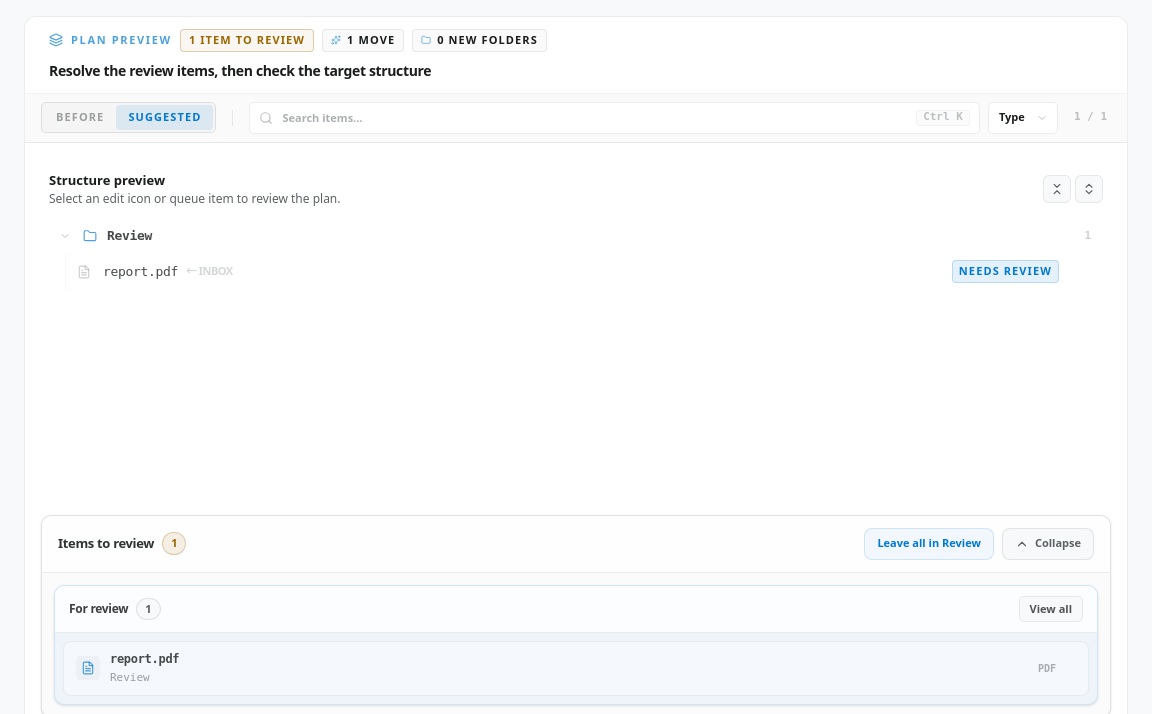
it: PreviewPanel › renders plan preview and review queue labels in English
Expected: the text "Plan preview" is shown, [49,32,172,48]
Expected: the heading "Items to review" is shown, [58,534,154,553]
Click the button "Collapse". click: coordinates (1048, 544)
box: [1002,528,1094,560]
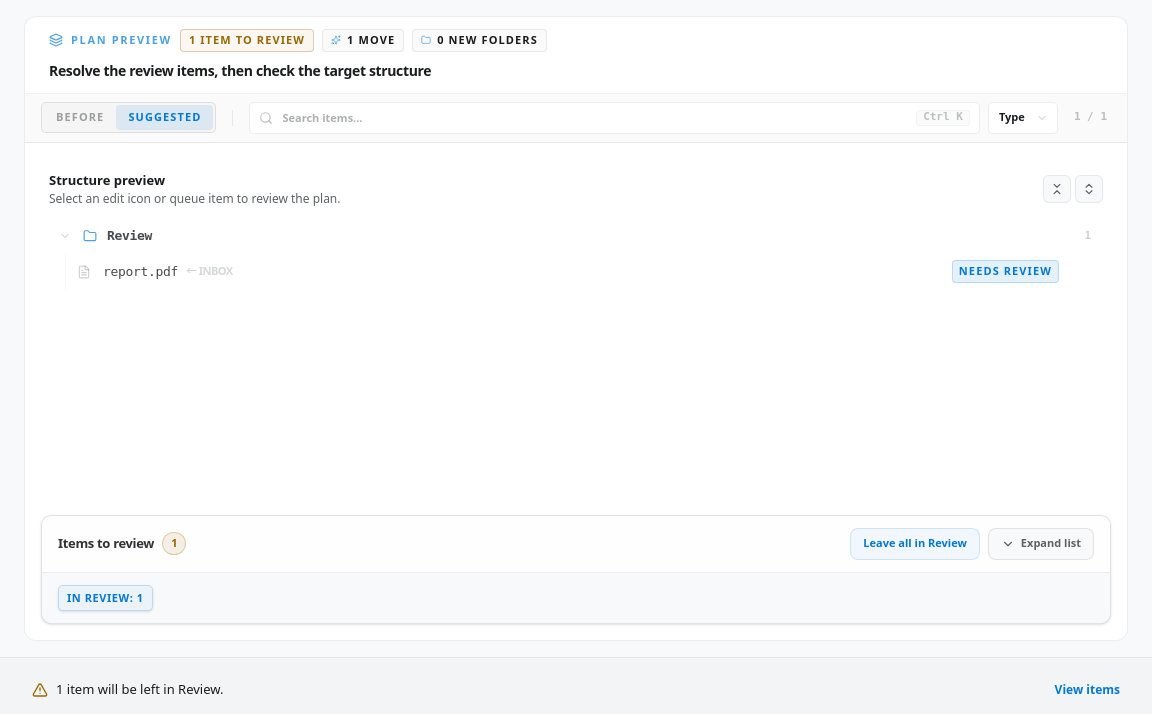
Expected: the text "Review" is shown, [107,228,152,243]
Expected: the text "In Review: 1" is shown, [58,584,153,611]
